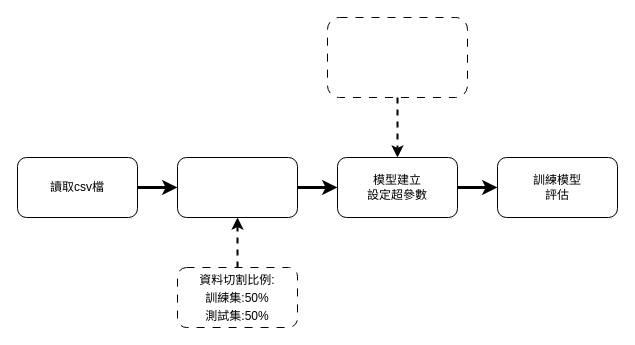
The diagram is 635 pixels wide and 345 high, and some of its shapes have lost their labels. Each missing label, with the centre of its shape:
RF超參數: n_estimators=100, max_depth=15, min_samples_split=5,: point (397, 57)
資料分割: point (237, 187)
